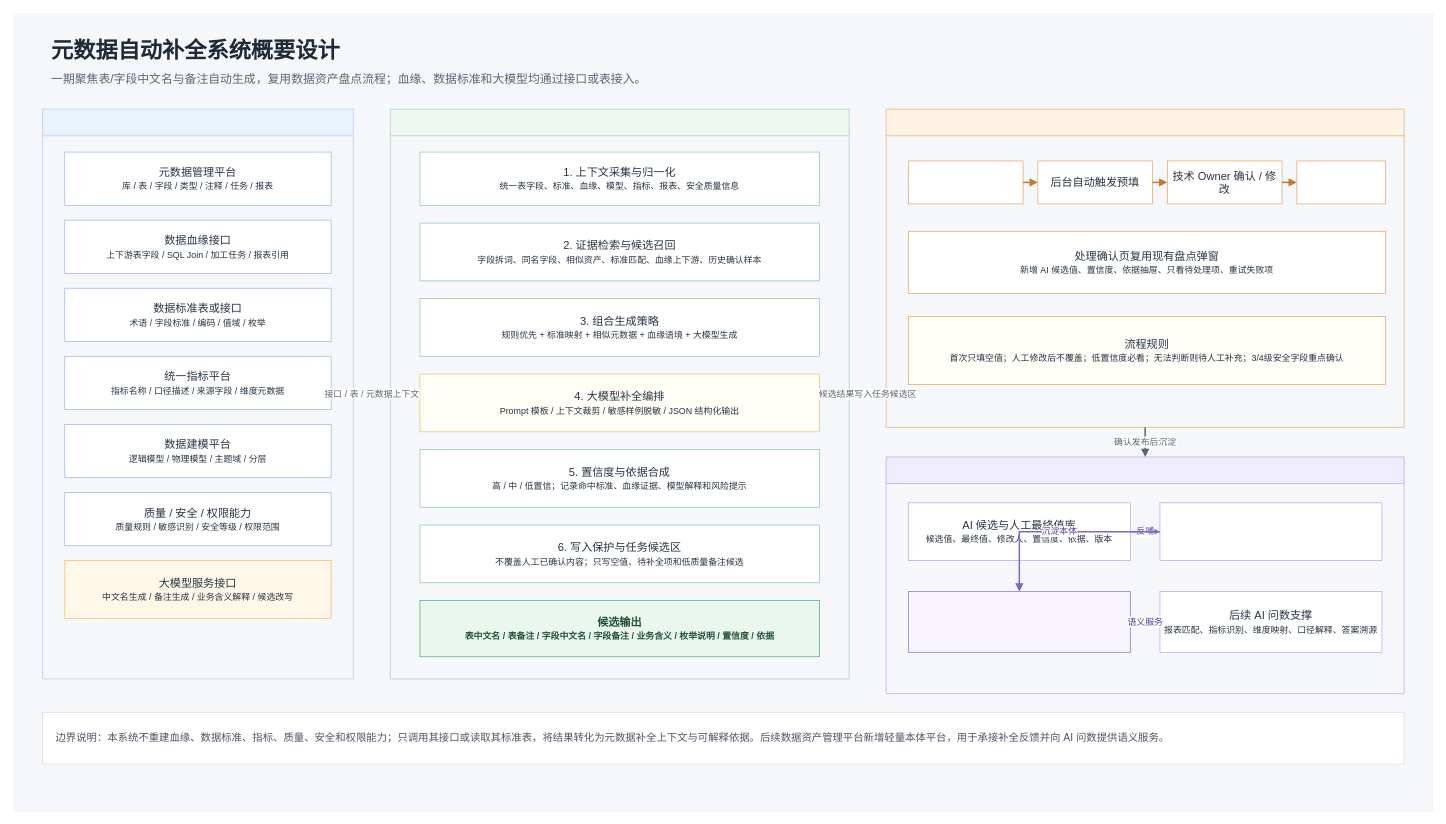
Image size: 1446x824. Some labels were removed from this diagram. Here are the shapes that lost their labels. From the top down, the box of each, then its label:
(908, 160, 1023, 204): 盘点任务创建 / 资产分派
(1296, 160, 1386, 204): 审批发布 / 元数据回写
(885, 108, 1404, 427): 复用现有数据资产盘点流程
(42, 108, 353, 679): 现有平台与外部能力
(390, 108, 849, 679): 元数据自动补全服务
(1159, 502, 1382, 561): 语义样本与本体资产 标准映射、对象属性、指标语义、问法样例、补全反馈
(885, 456, 1404, 694): 沉淀与后续消费
(908, 591, 1130, 652): 轻量本体平台 业务对象、对象属性、对象关系、报表语义、指标语义、字段映射
